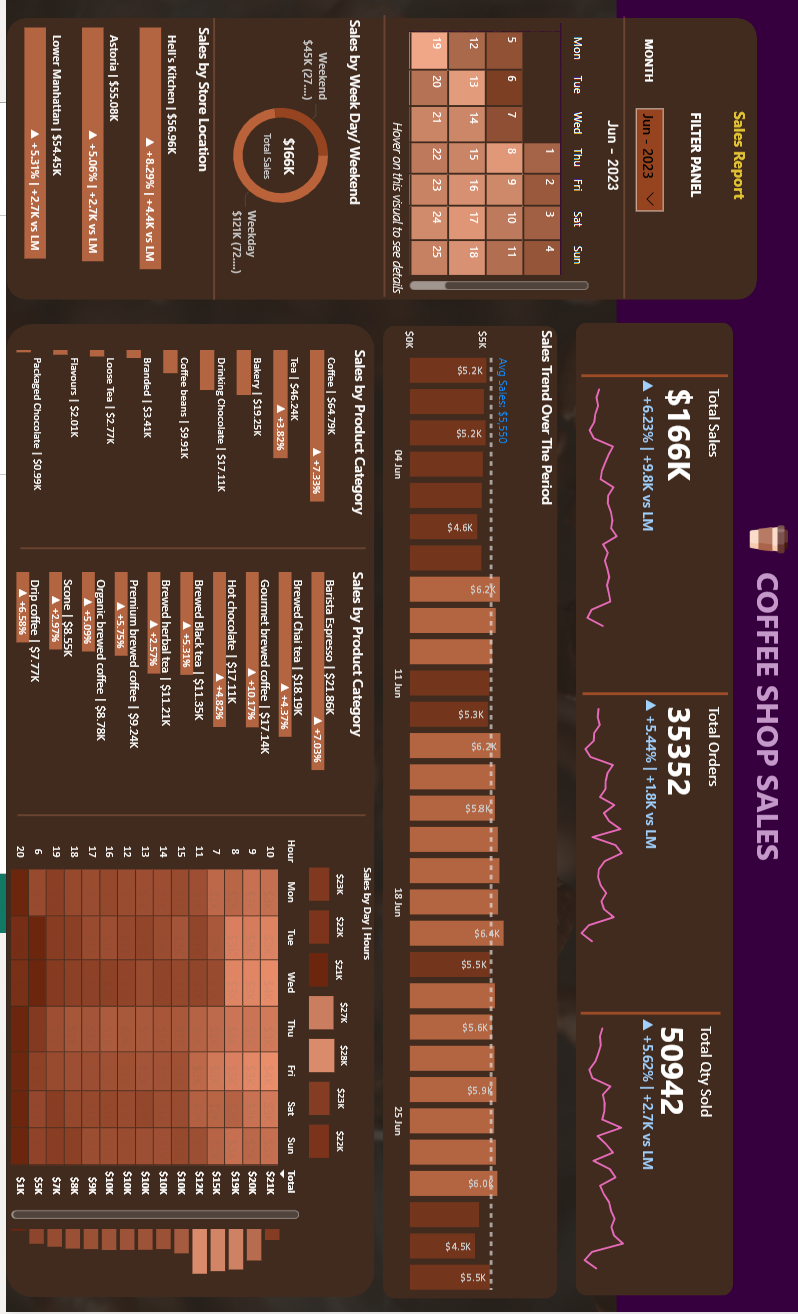

The dashboard page shown, as its layout file describes it:
{"tool":"powerbi","page":{"name":"Page 1","canvas":[1400,850],"ordinal":0},"visuals":[{"type":"shape","box":[0,0,1399.4,200.4],"z":0},{"type":"shape","box":[22.1,51.5,299.7,798.1],"z":1000},{"type":"shape","box":[345.7,77.2,1035.3,167.3],"z":2000},{"type":"textbox","box":[586.6,11,375.1,53.3],"z":3000},{"type":"slicer","fields":{"Values":["Date Table.Month Year"]},"box":[114,145.3,119.5,36.8],"z":4000},{"type":"group","id":"g1","title":"Group 1","box":[380.7,77.2,303.4,167.3],"z":5000},{"type":"cardVisual","fields":{"Data":["Transactions.Total Sales"]},"box":[380.7,77.2,303.1,166.3],"z":5000,"group":"g6"},{"type":"cardVisual","fields":{"Data":["Transactions.Total Orders"]},"box":[719,77.2,299.7,165.4],"z":5000,"group":"g5"},{"type":"cardVisual","fields":{"Data":["Transactions.Total Qty Sold"]},"box":[1059.2,84.6,303.7,159.1],"z":5000,"group":"g3"},{"type":"group","id":"g2","title":"Group 1","box":[719,77.2,299.7,167.3],"z":6000},{"type":"lineChart","fields":{"Category":["Date Table.Date Hierarchy.Date"],"Y":["Transactions.Total Orders"]},"box":[741.6,153.1,277.2,91.4],"z":6000,"group":"g5"},{"type":"lineChart","fields":{"Category":["Date Table.Date Hierarchy.Date"],"Y":["Transactions.Total Qty Sold"]},"box":[1081.1,156.2,285.4,86],"z":6000,"group":"g3"},{"type":"lineChart","fields":{"Category":["Date Table.Date Hierarchy.Date"],"Y":["Transactions.Total Sales"]},"box":[402.2,157,281.7,88],"z":6000,"group":"g6"},{"type":"group","id":"g3","title":"Group 2","box":[1059.2,84.6,307.3,159.1],"z":6004,"group":"g4"},{"type":"group","id":"g4","title":"Group 1","box":[1059.2,84.6,307.1,158.1],"z":7000},{"type":"pivotTable","fields":{"Rows":["Date Table.Week Number"],"Columns":["Date Table.Day Name"],"Values":["Min(Date Table.Day Number)"]},"box":[22.1,224.3,294.2,200.4],"z":8000},{"type":"card","fields":{"Values":["Min(Date Table.Month Year)"]},"box":[95.6,189.4,145.3,25.7],"z":9000},{"type":"card","fields":{"Values":["Transactions.Foot Note"]},"box":[123.2,421.1,198.6,27.6],"z":10000},{"type":"shape","box":[22.1,617.9,299.7,22.1],"z":11000},{"type":"shape","box":[20.7,181.9,300,20.7],"z":12000},{"type":"donutChart","title":"Sales by Week Day/ Weekend","fields":{"Category":["Date Table.Week Day/ Weekend"],"Y":["Transactions.Total Sales"]},"box":[18.4,467.1,297.9,160],"z":13000},{"type":"card","fields":{"Values":["Transactions.Total Sales"]},"box":[126.9,531.4,82.8,51.5],"z":14000},{"type":"shape","box":[18.4,437.7,299.7,20.2],"z":15000},{"type":"clusteredBarChart","title":" Sales by Store Location","fields":{"Category":["Transactions.store_location"],"Y":["Transactions.Placeholder","Transactions.Total Sales"]},"box":[27.6,628.9,294.2,209.6],"z":16000},{"type":"shape","box":[349.4,263,1035.3,185.7],"z":17000},{"type":"shape","box":[347.6,457.9,1035.3,391.7],"z":18000},{"type":"clusteredBarChart","title":"Sales by Product Category","fields":{"Category":["Transactions.product_category"],"Y":["Transactions.Placeholder","Transactions.Total Sales"]},"box":[370.2,462.8,201.1,381.4],"z":19000},{"type":"columnChart","title":"Sales Trend Over The Period","fields":{"Category":["Transactions.transaction_date"],"Y":["Transactions.Total Sales"]},"box":[349.4,263,1033.5,185.7],"z":20000},{"type":"shape","box":[576.1,467.6,20.7,367],"z":21000},{"type":"clusteredBarChart","title":"Sales by Product Category","fields":{"Y":["Transactions.Placeholder","Transactions.Total Sales"],"Category":["Transactions.product_type"]},"box":[606.4,464.4,256.9,379.8],"z":22000},{"type":"shape","box":[863.3,467.6,14.4,370.2],"z":23000},{"type":"pivotTable","fields":{"Rows":["Transactions.Hour"],"Columns":["Date Table.Day Name"],"Values":["Transactions.Total Sales"]},"box":[886.3,533.3,419.3,316.3],"z":24000},{"type":"barChart","fields":{"Y":["Transactions.Total Sales"],"Category":["Transactions.Hour"]},"box":[1305.6,546.2,77.2,303.4],"z":25000},{"type":"columnChart","title":"Sales by Day | Hours","fields":{"Y":["Transactions.Total Sales"],"Category":["Date Table.Day Name"]},"box":[921.3,457.9,320,75.4],"z":26000},{"type":"textbox","box":[28.7,150,78.2,31.9],"z":27000},{"type":"textbox","box":[106.7,53.3,123.2,31.3],"z":28000},{"type":"textbox","box":[75.4,101.1,185.7,29.4],"z":29000},{"type":"group","id":"g5","title":"Group 3","box":[719,77.2,299.8,167.3],"z":29002,"group":"g2"},{"type":"image","box":[550.5,12.8,52.7,51.1],"z":30000},{"type":"group","id":"g6","title":"Group 4","box":[380.7,77.2,303.2,167.9],"z":30001,"group":"g1"}]}

Visuals, with their boxes on the page's 1400x850 design canvas (x1, y1, x2, y2). These are canvas units, not pixel positions in the 798x1314 screenshot, which may show the page scaled, cropped or inside an application window:
shape: [0, 0, 1399, 200]
shape: [22, 52, 322, 850]
shape: [346, 77, 1381, 244]
textbox: [587, 11, 962, 64]
slicer - Date Table.Month Year: [114, 145, 234, 182]
"Group 1" group: [381, 77, 684, 244]
cardVisual - Transactions.Total Sales: [381, 77, 684, 244]
cardVisual - Transactions.Total Orders: [719, 77, 1019, 243]
cardVisual - Transactions.Total Qty Sold: [1059, 85, 1363, 244]
"Group 1" group: [719, 77, 1019, 244]
lineChart - Date Table.Date Hierarchy.Date x Transactions.Total Orders: [742, 153, 1019, 244]
lineChart - Date Table.Date Hierarchy.Date x Transactions.Total Qty Sold: [1081, 156, 1366, 242]
lineChart - Date Table.Date Hierarchy.Date x Transactions.Total Sales: [402, 157, 684, 245]
"Group 2" group: [1059, 85, 1366, 244]
"Group 1" group: [1059, 85, 1366, 243]
pivotTable - Date Table.Week Number x Date Table.Day Name: [22, 224, 316, 425]
card - Min(Date Table.Month Year): [96, 189, 241, 215]
card - Transactions.Foot Note: [123, 421, 322, 449]
shape: [22, 618, 322, 640]
shape: [21, 182, 321, 203]
"Sales by Week Day/ Weekend" donutChart: [18, 467, 316, 627]
card - Transactions.Total Sales: [127, 531, 210, 583]
shape: [18, 438, 318, 458]
" Sales by Store Location" clusteredBarChart: [28, 629, 322, 838]
shape: [349, 263, 1385, 449]
shape: [348, 458, 1383, 850]
"Sales by Product Category" clusteredBarChart: [370, 463, 571, 844]
"Sales Trend Over The Period" columnChart: [349, 263, 1383, 449]
shape: [576, 468, 597, 835]
"Sales by Product Category" clusteredBarChart: [606, 464, 863, 844]
shape: [863, 468, 878, 838]
pivotTable - Transactions.Hour x Date Table.Day Name: [886, 533, 1306, 850]
barChart - Transactions.Total Sales x Transactions.Hour: [1306, 546, 1383, 850]
"Sales by Day | Hours" columnChart: [921, 458, 1241, 533]
textbox: [29, 150, 107, 182]
textbox: [107, 53, 230, 85]
textbox: [75, 101, 261, 130]
"Group 3" group: [719, 77, 1019, 244]
image: [550, 13, 603, 64]
"Group 4" group: [381, 77, 684, 245]
